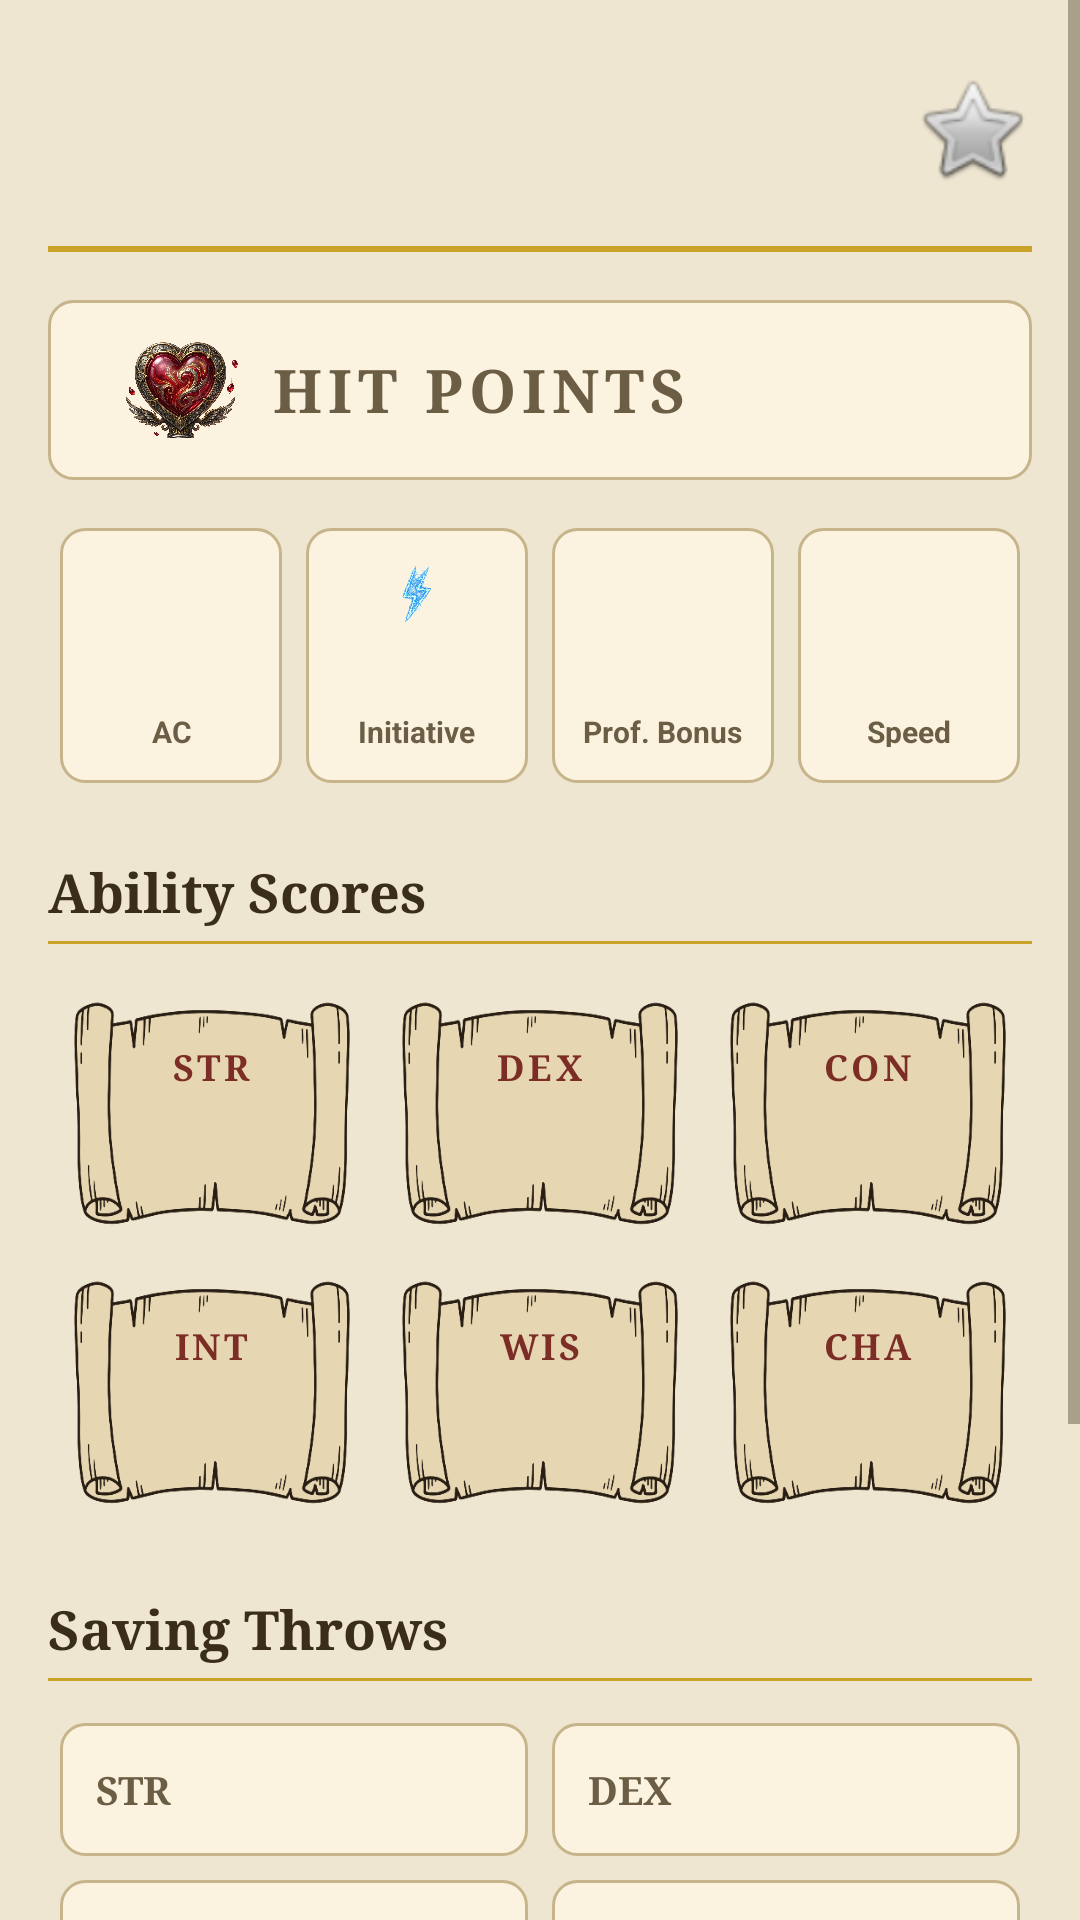

Named icons in this screenshot (1080px x 1920px) and their bounding boxes, bbox=(x1, y1, x2, y2):
bolt real: bbox=(402, 566, 431, 622)
heart real: bbox=(126, 342, 238, 438)
star off: bbox=(923, 81, 1023, 179)
